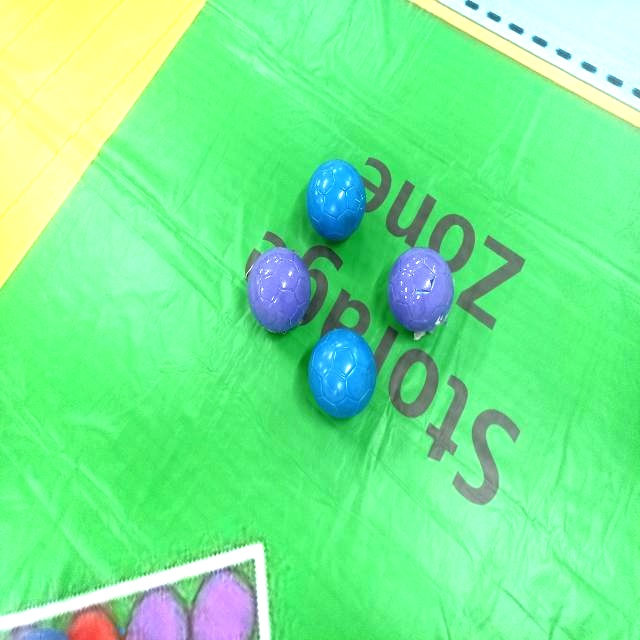blue_ball: (303, 327, 378, 415), (302, 152, 372, 244)
purple_ball: (386, 246, 454, 348), (246, 242, 314, 336)
